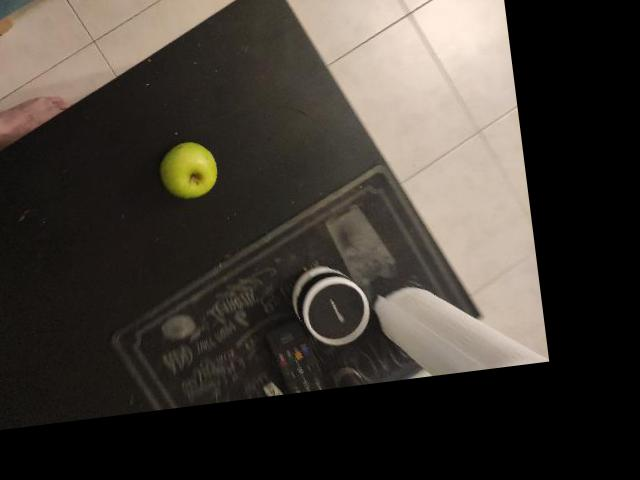apple: (231, 27, 304, 100)
